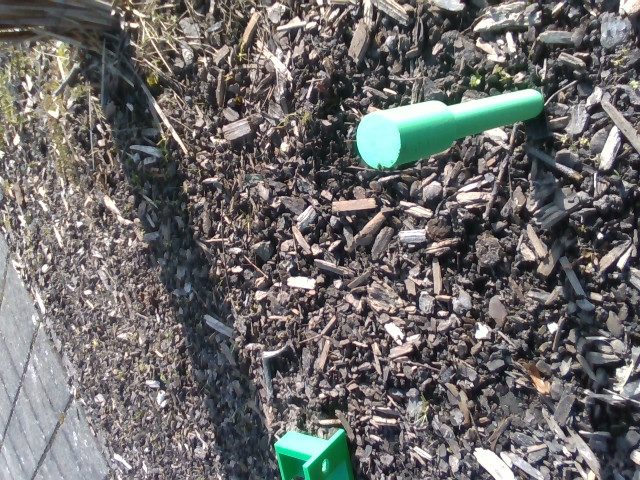Probe: (351, 76, 565, 177)
